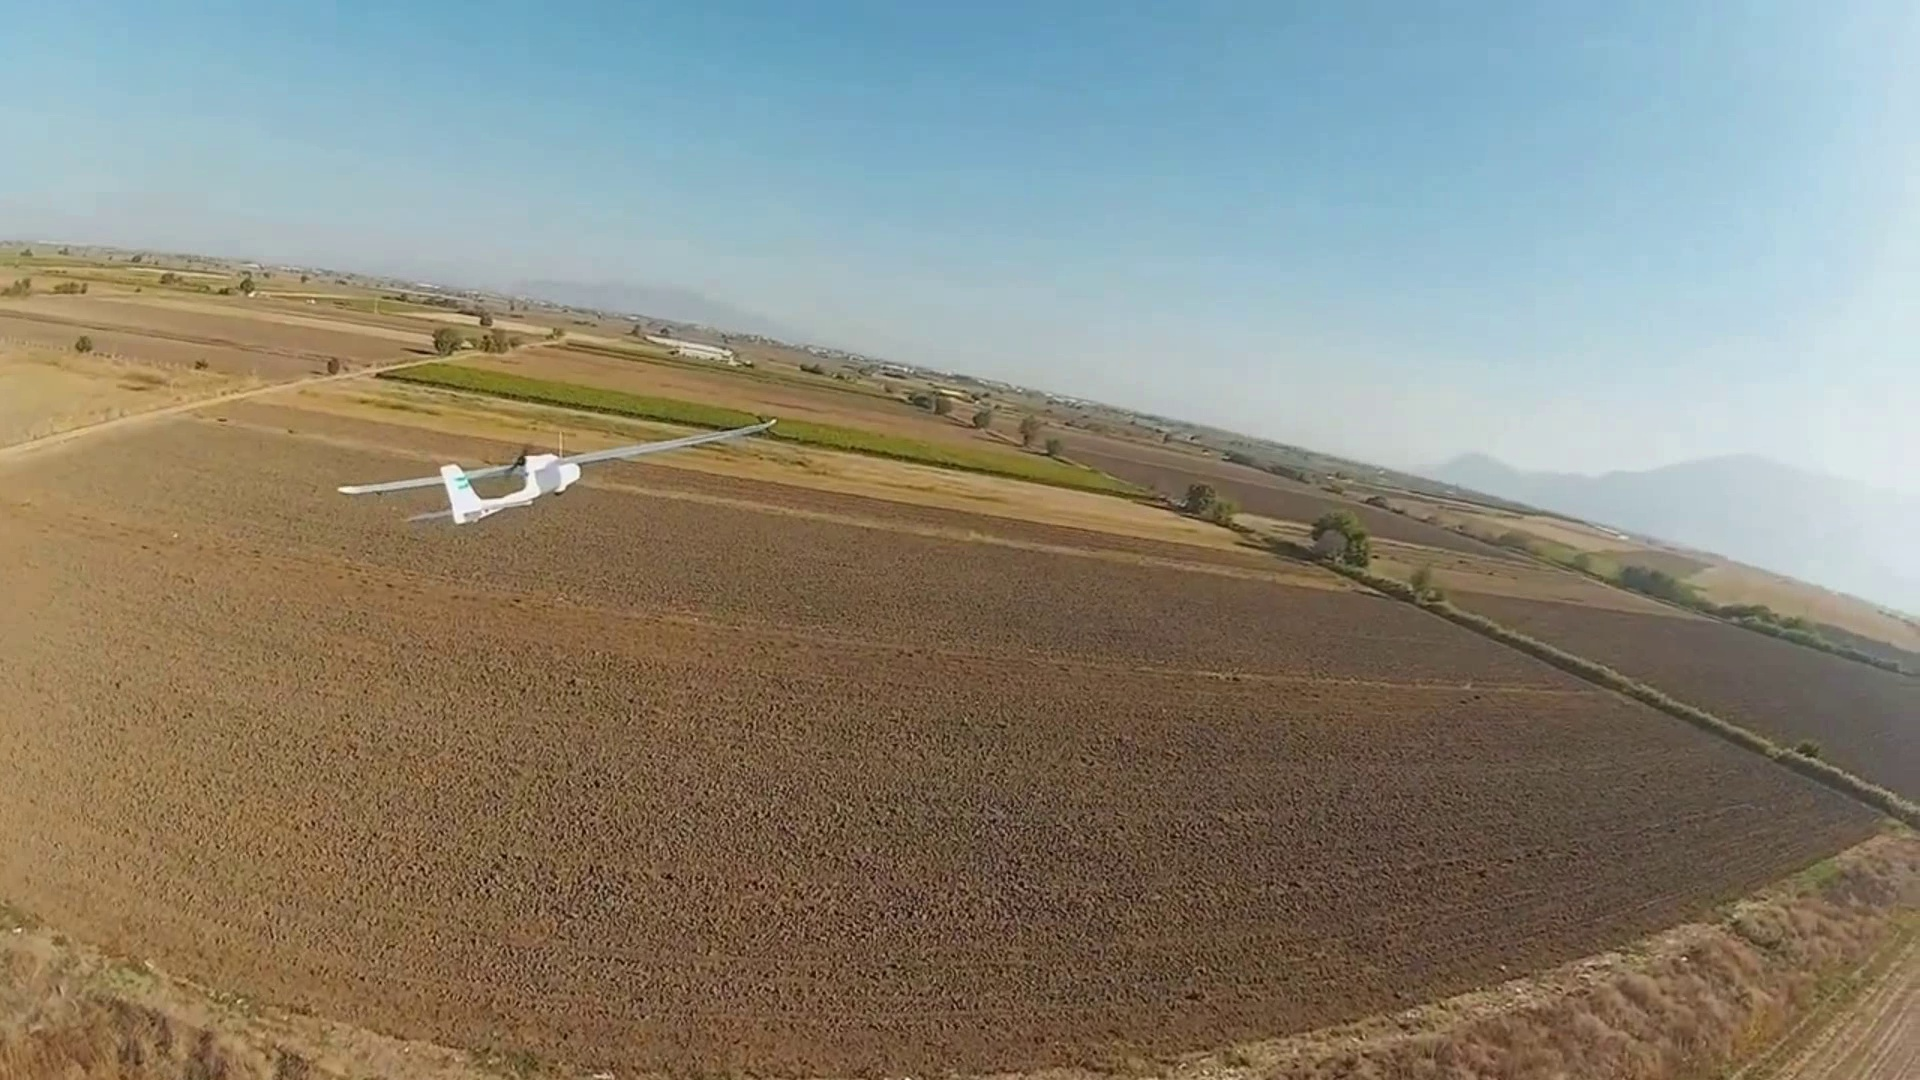airplane: (336, 451, 584, 527)
